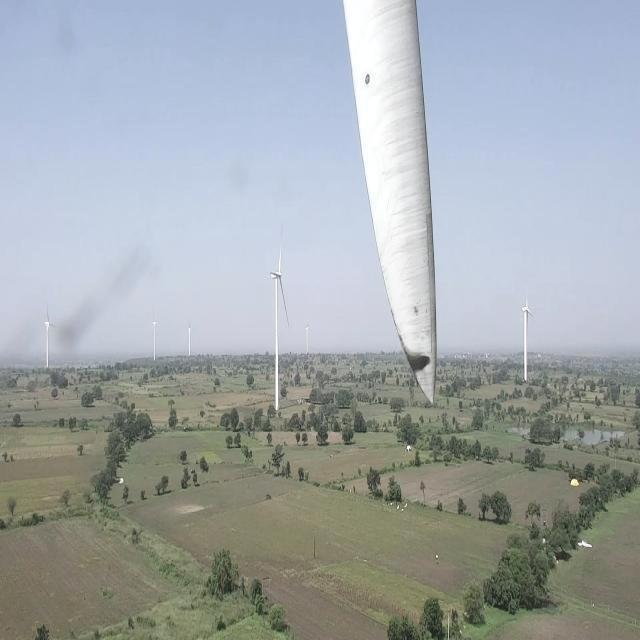Pin_Hole: (355, 69, 378, 96)
oil_leakage: (397, 331, 430, 375)
